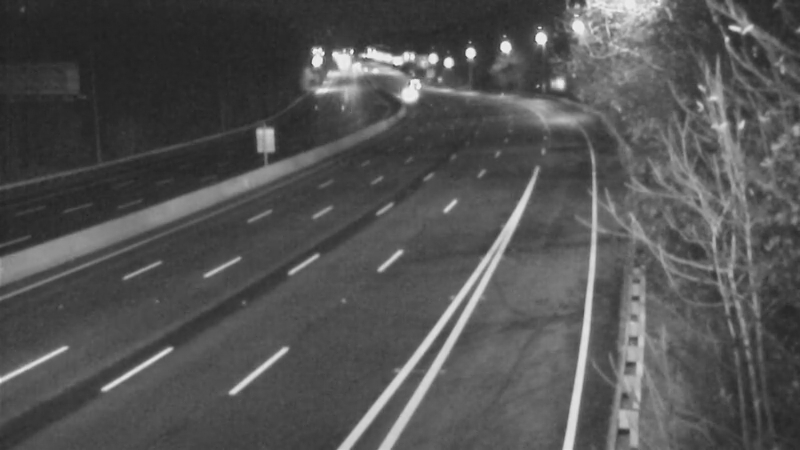vehicle: (386, 58, 436, 108), (380, 67, 430, 117)
